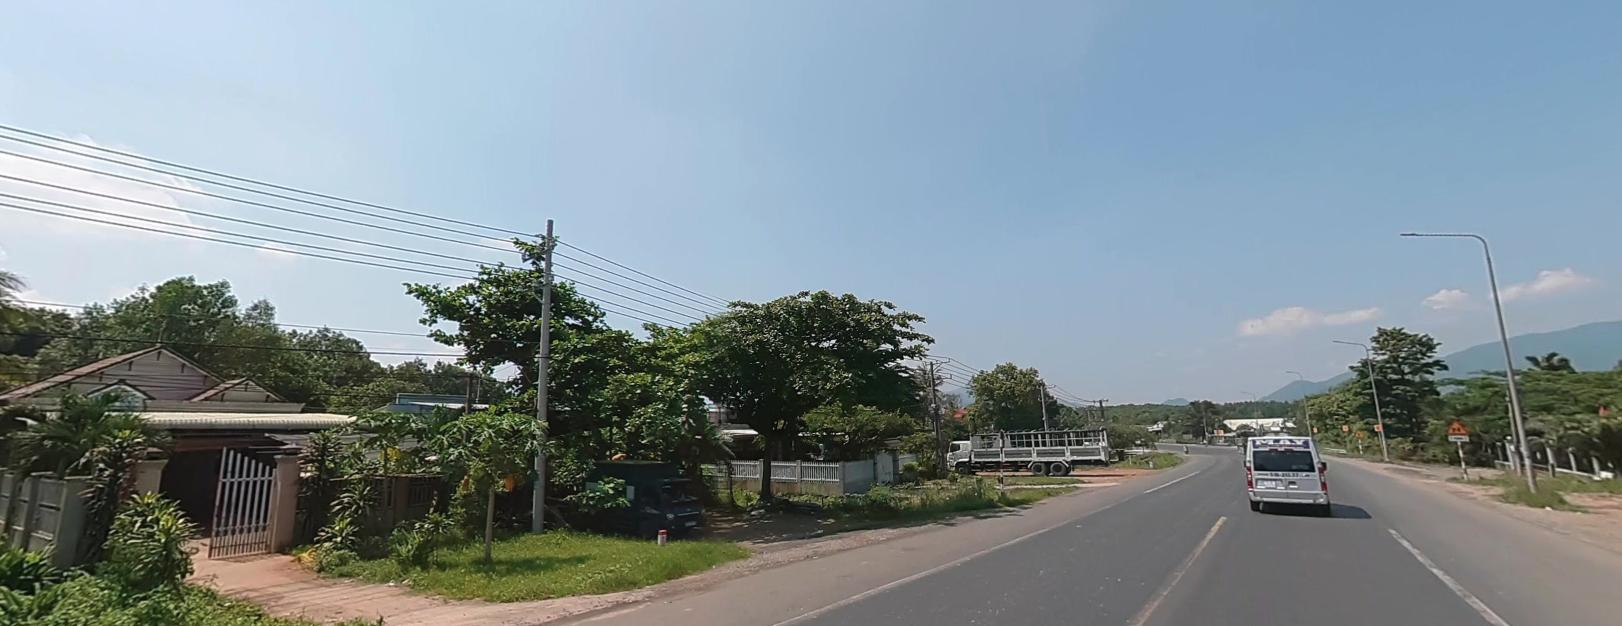Nguy hiem: (1448, 418, 1468, 433), (1354, 427, 1364, 435)
